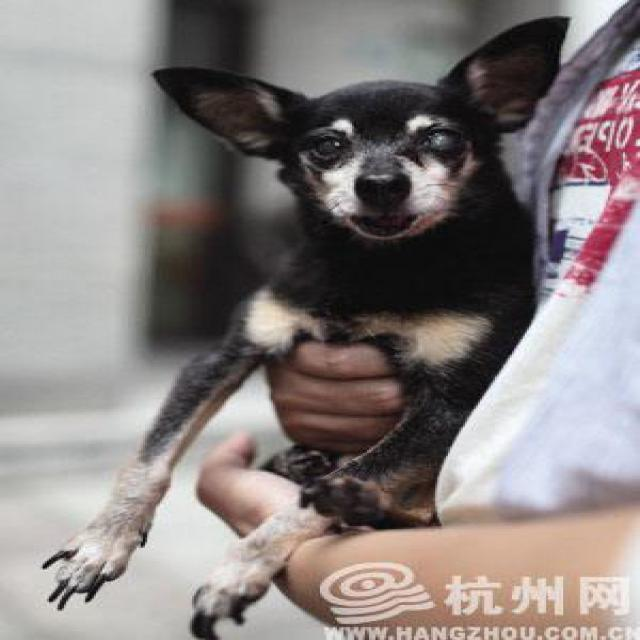eye: (413, 127, 468, 156), (310, 134, 348, 162)
